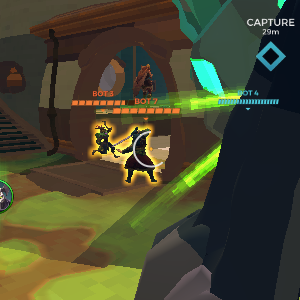model: (125, 119, 159, 184), (90, 116, 117, 157)
